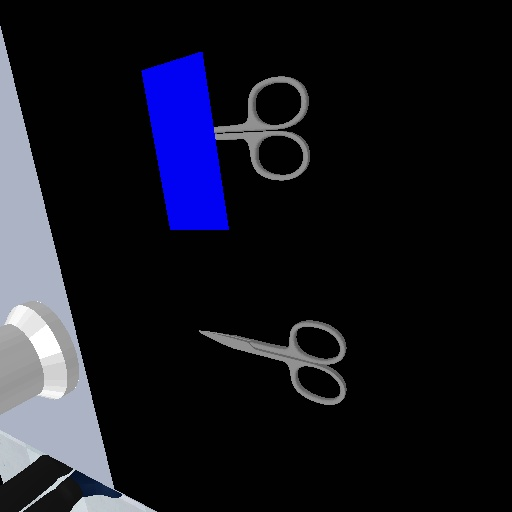tijera: (193, 314, 354, 408), (212, 72, 317, 184)
